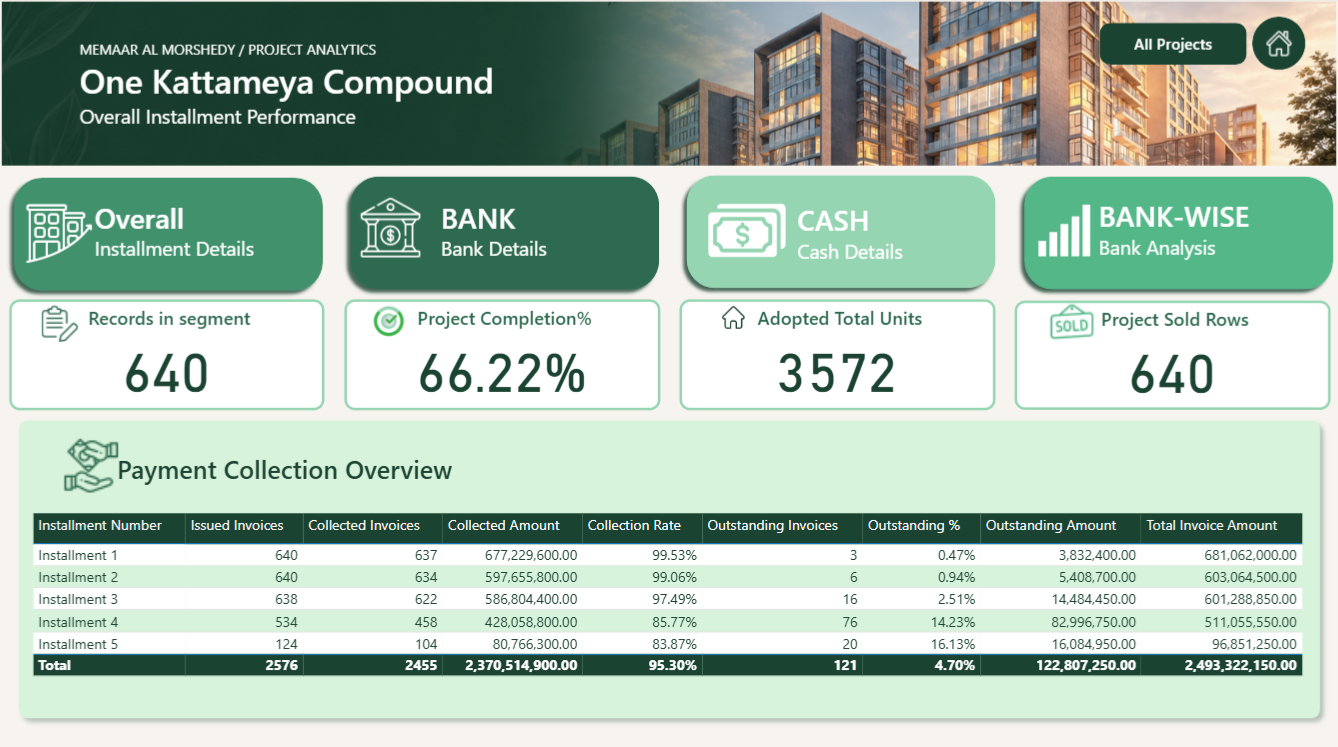

What the dashboard file says about the page in this screenshot:
{"tool":"powerbi","page":{"name":"  Kattameya-Bank-Wise","canvas":[1280,720],"ordinal":7},"visuals":[{"type":"image","box":[0,0,1280.3,166],"z":0},{"type":"actionButton","box":[969.9,163.3,310.1,123.5],"z":0,"group":"g7"},{"type":"shape","box":[4.3,302.9,1270.7,387],"z":0,"group":"g1"},{"type":"textbox","box":[74.1,35.7,548.9,96.1],"z":1000},{"type":"actionButton","box":[649.3,161.9,310.1,123.5],"z":1000,"group":"g5"},{"type":"image","box":[341.6,178.4,66.7,82.3],"z":1000,"group":"g4"},{"type":"image","box":[667.8,178.5,92.7,87.8],"z":1000,"group":"g6"},{"type":"image","box":[981.9,191.9,70,63.1],"z":1000,"group":"g8"},{"type":"tableEx","fields":{"Values":["Dim_PaymentMethod.Bank","Fact_Installment.Total Sold Units","Dim_Sale.Unit Price by Bank","Fact_Installment.Invoiced Amount","Fact_Installment.Amount Collected","Fact_Installment.Outstanding Balance"]},"box":[21.7,384,1239.1,274.4],"z":1000,"group":"g1"},{"type":"actionButton","title":"Back to Home","box":[1195.2,19.2,50.8,50.8],"z":2000},{"type":"actionButton","box":[8.2,164.7,310.1,123.5],"z":2000,"group":"g2"},{"type":"textbox","box":[1043.9,185.9,156.4,75.5],"z":2000,"group":"g8"},{"type":"textbox","box":[418,186.6,125.9,82.3],"z":2000,"group":"g4"},{"type":"textbox","box":[87.8,188.3,170.2,76.8],"z":2000,"group":"g9"},{"type":"textbox","box":[757,188.8,119.4,71.4],"z":2000,"group":"g6"},{"type":"textbox","box":[88.3,331.8,464.7,56.2],"z":2000,"group":"g1"},{"type":"shape","box":[1049.7,24.7,140,39.8],"z":3000},{"type":"actionButton","box":[328.8,163.3,310.1,123.5],"z":3000,"group":"g3"},{"type":"group","id":"g1","title":"Group 8","box":[4.3,302.9,1270.7,387],"z":4000},{"type":"actionButton","box":[39.8,321.1,53.5,53.5],"z":5000},{"type":"group","id":"g2","title":"Group 11","box":[8.2,164.7,310.1,123.5],"z":6000},{"type":"group","id":"g3","title":"Group 12","box":[328.8,163.3,310.1,123.5],"z":7000},{"type":"group","id":"g4","title":"Group 1","box":[341.6,178.4,202.4,90.6],"z":7000,"group":"g3"},{"type":"group","id":"g5","title":"Group 13","box":[649.3,161.9,310.1,123.5],"z":8000},{"type":"group","id":"g6","title":"Group 2","box":[667.8,178.5,208.6,87.8],"z":8000,"group":"g5"},{"type":"group","id":"g7","title":"Group 14","box":[969.9,163.3,310.1,123.5],"z":9000},{"type":"group","id":"g8","title":"Group 3","box":[981.9,185.9,218.4,75.5],"z":9000,"group":"g7"},{"type":"group","id":"g9","title":"Group 1","box":[87.8,188.3,170.2,76.8],"z":12000,"group":"g10"},{"type":"image","box":[20.2,166.4,78.5,119.4],"z":13000,"group":"g10"},{"type":"group","id":"g10","title":"Group 10","box":[20.2,166.4,237.8,119.4],"z":13002,"group":"g11"},{"type":"group","id":"g11","title":"Group 9","box":[20.2,166.4,237.8,119.4],"z":16000,"group":"g2"}]}

Visuals, with their boxes in screenshot pixels (x1, y1, x2, y2), scaled from the page's 1280x720 canvas onto the 1338x747 screenshot:
image: [0,0,1337,172]
actionButton: [1014,169,1337,298]
shape: [4,314,1333,716]
textbox: [77,37,651,137]
actionButton: [679,168,1003,296]
image: [357,185,427,270]
image: [698,185,795,276]
image: [1026,199,1100,265]
tableEx - Dim_PaymentMethod.Bank x Fact_Installment.Total Sold Units: [23,398,1318,683]
"Back to Home" actionButton: [1249,20,1302,73]
actionButton: [9,171,333,299]
textbox: [1091,193,1255,271]
textbox: [437,194,569,279]
textbox: [92,195,270,275]
textbox: [791,196,916,270]
textbox: [92,344,578,403]
shape: [1097,26,1244,67]
actionButton: [344,169,668,298]
"Group 8" group: [4,314,1333,716]
actionButton: [42,333,98,389]
"Group 11" group: [9,171,333,299]
"Group 12" group: [344,169,668,298]
"Group 1" group: [357,185,569,279]
"Group 13" group: [679,168,1003,296]
"Group 2" group: [698,185,916,276]
"Group 14" group: [1014,169,1337,298]
"Group 3" group: [1026,193,1255,271]
"Group 1" group: [92,195,270,275]
image: [21,173,103,297]
"Group 10" group: [21,173,270,297]
"Group 9" group: [21,173,270,297]
